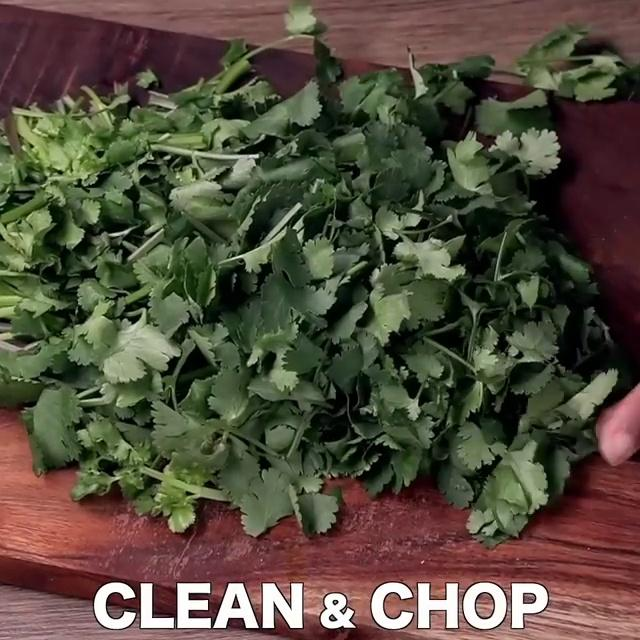cilantro: (0, 91, 563, 481)
